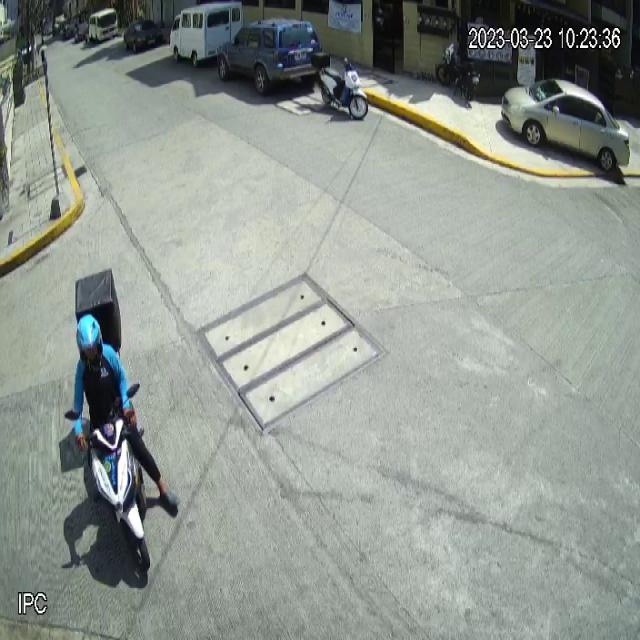Car: (501, 78, 630, 171), (216, 16, 323, 96)
Motorcycle: (65, 380, 152, 575), (312, 54, 368, 120)
Van: (169, 0, 242, 69)
